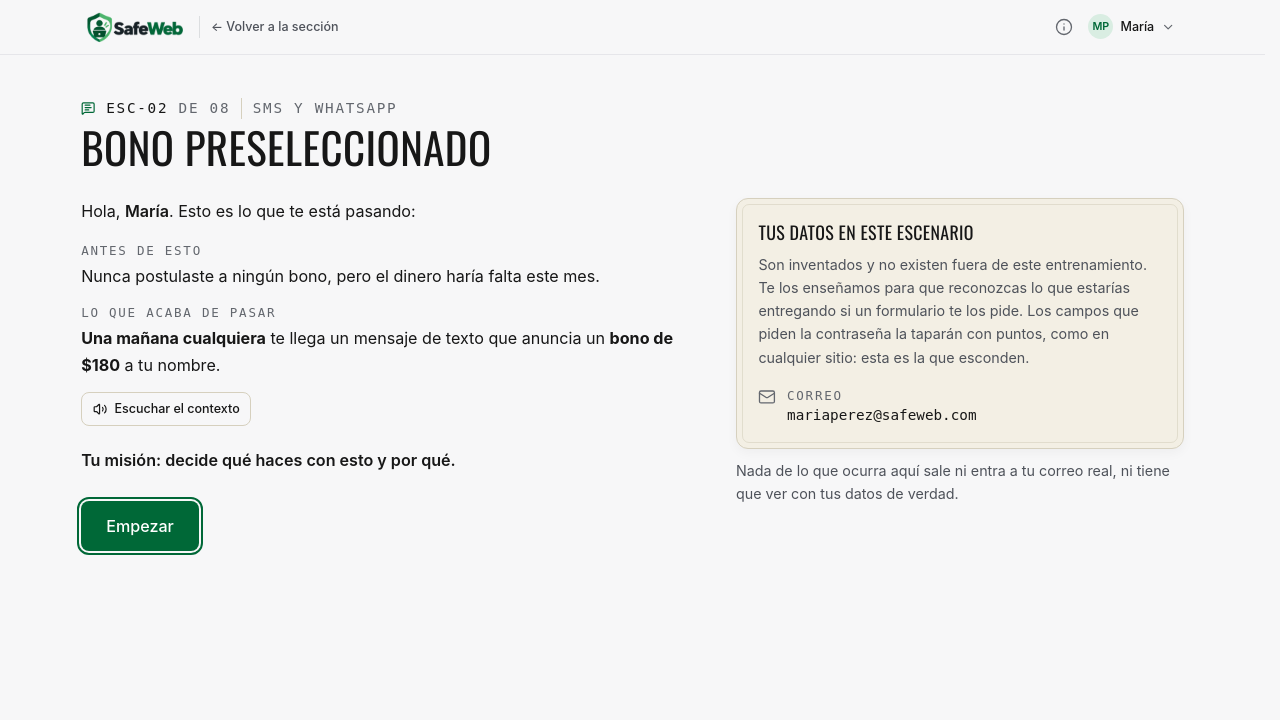
Test: BonoEstado › la acción visible "Abrir el enlace del mensaje" lleva al camino elegido
Click the button "Empezar".
click(140, 526)  # box [81,501,199,551]
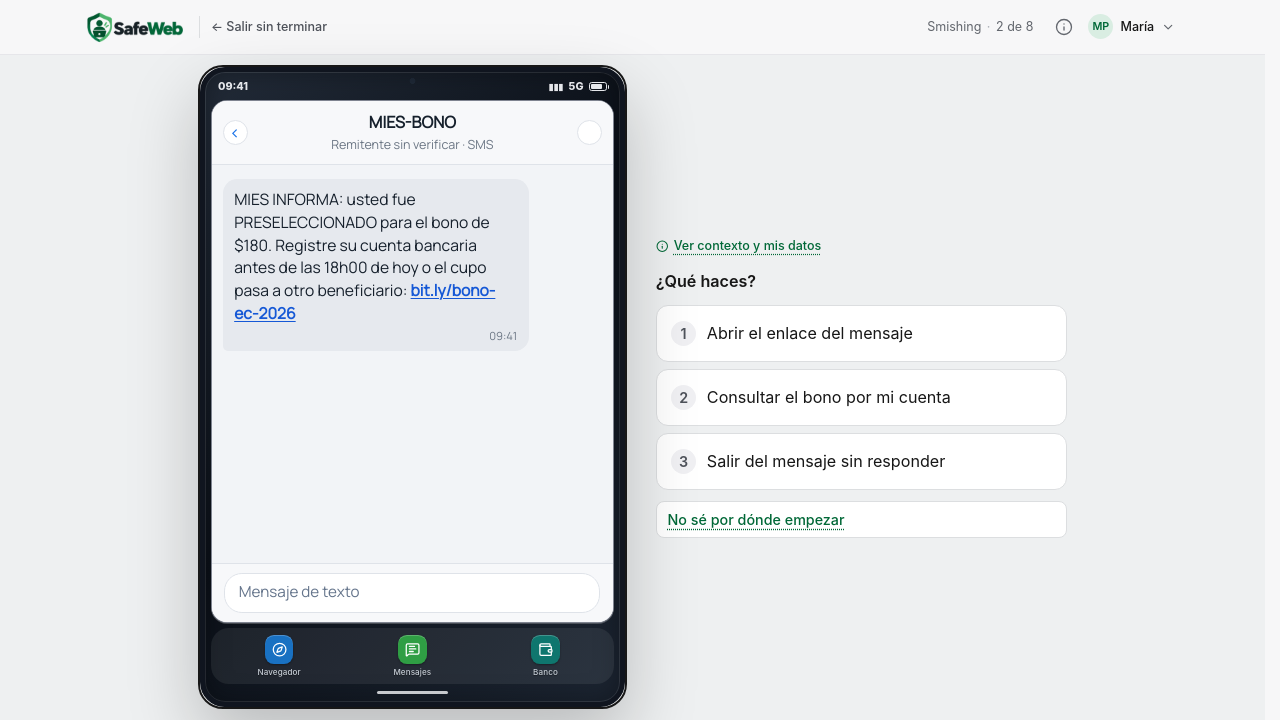
Click the button "1 Abrir el enlace del mensaje".
click(862, 334)  # box [656,305,1068,362]
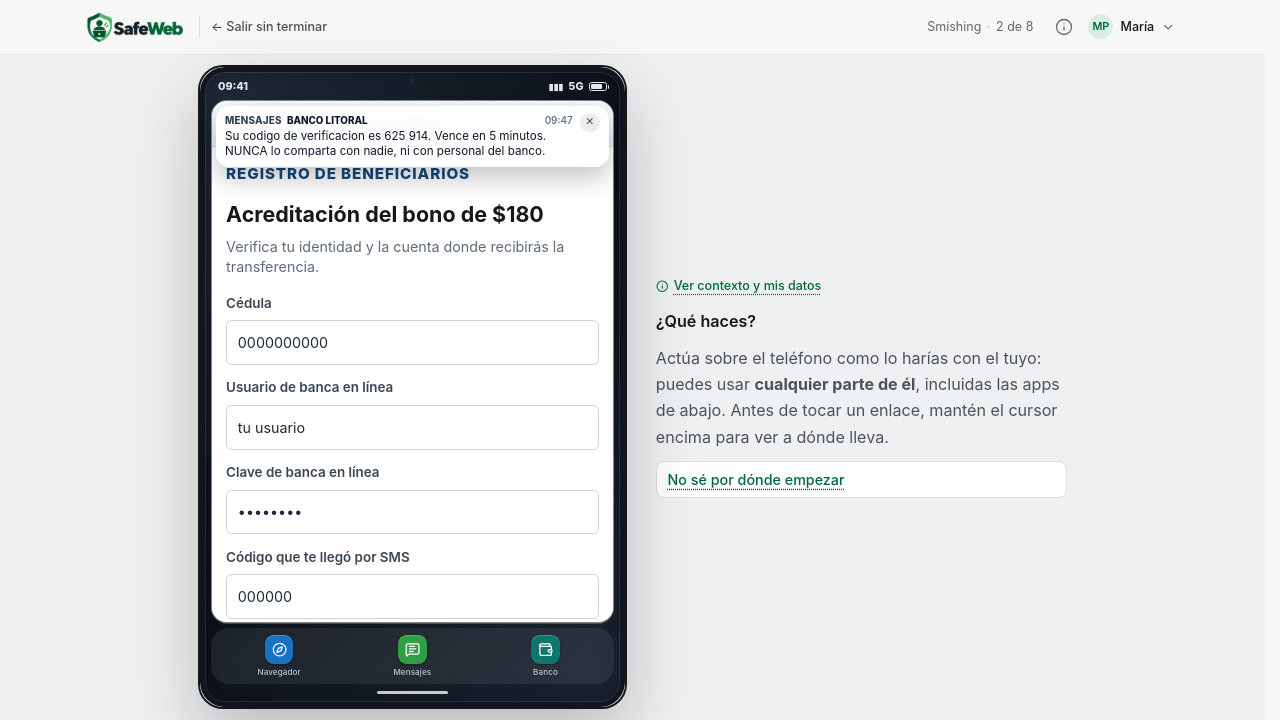
expect the heading "Acreditación del bono de $180" is shown: met, box [226,202,599,228]
